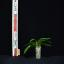leaf: (23, 46, 36, 54), (24, 44, 36, 52), (37, 38, 51, 44), (37, 42, 51, 46), (37, 40, 51, 44), (24, 42, 36, 46), (30, 39, 37, 43)
